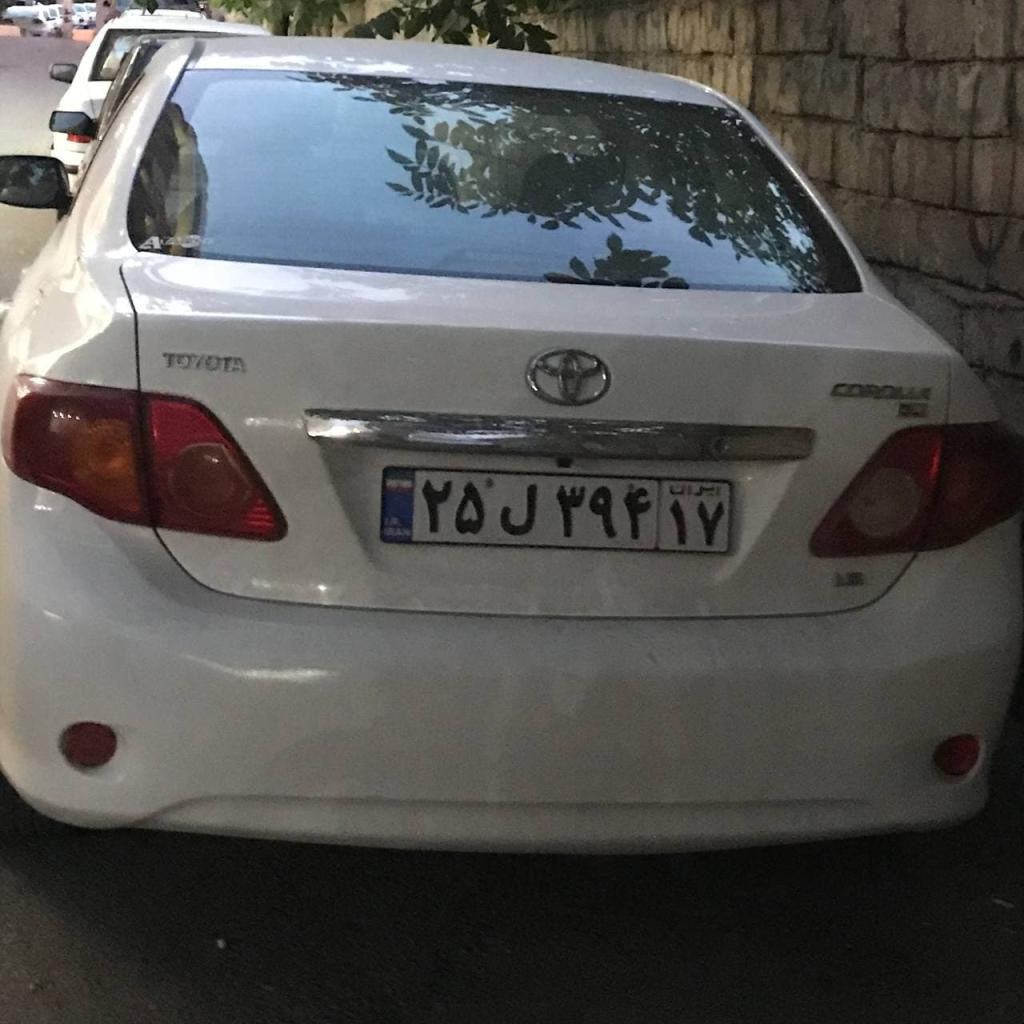Plates: (381, 466, 732, 551)
